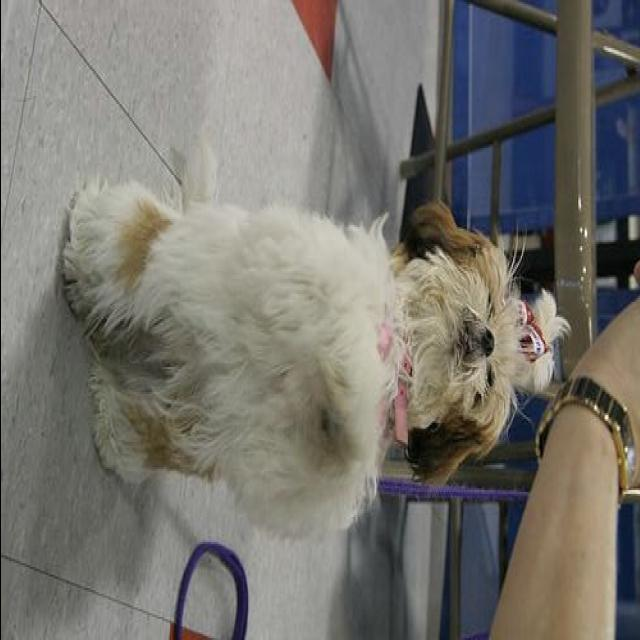pekinese: (58, 179, 570, 544)
